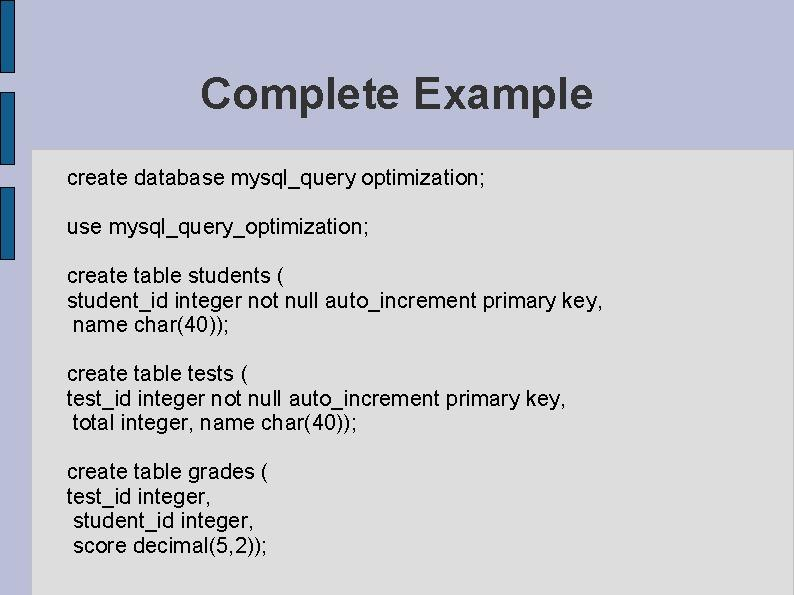paragraph: (59, 158, 687, 585)
title: (188, 62, 600, 123)
